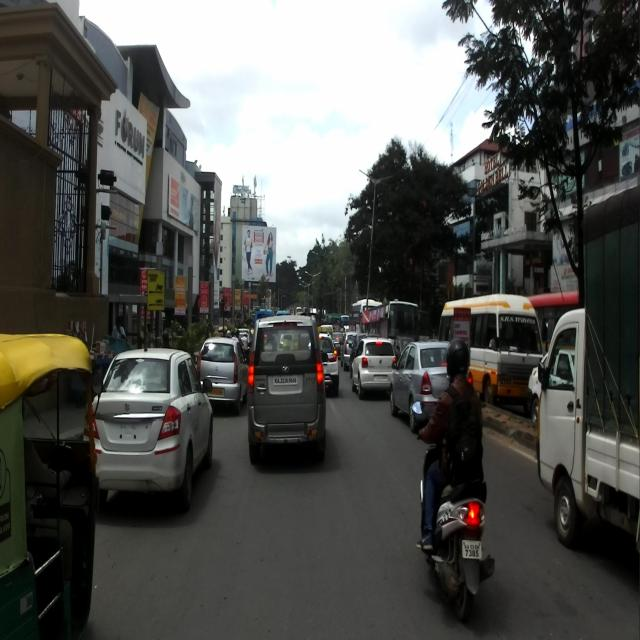Car_Mahindra: (247, 312, 328, 465)
Car_Maruti-Suzuki: (90, 338, 213, 511)
Car_Toyota: (390, 337, 452, 431)
autorickshaw: (0, 327, 104, 639)
mini-bus: (438, 292, 539, 405)
scooter: (412, 400, 498, 620)
